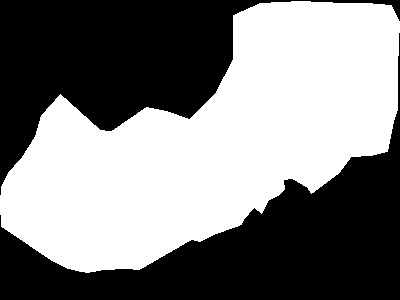Fire: (52, 129, 274, 273)
